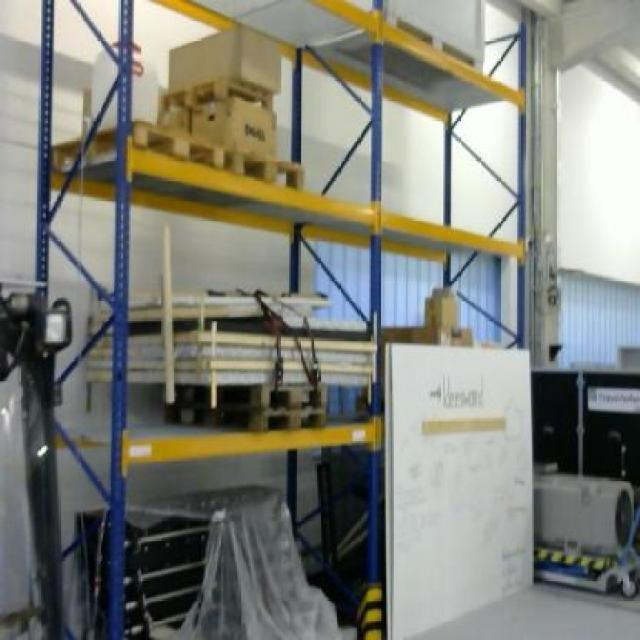box: (164, 24, 284, 92), (192, 95, 276, 156), (422, 296, 462, 326)
